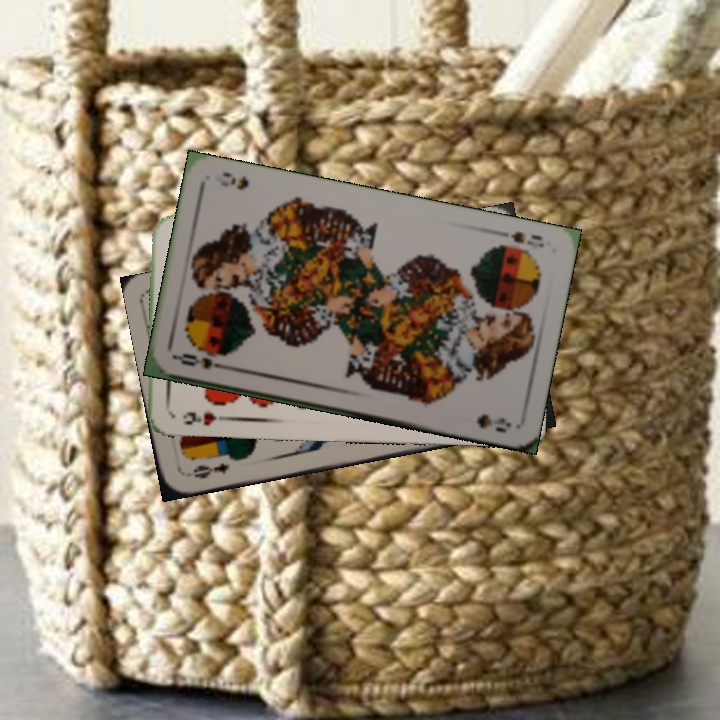EO: (189, 459, 232, 482)
H9: (178, 407, 230, 428)
SO: (172, 349, 231, 373), (493, 227, 547, 250)
